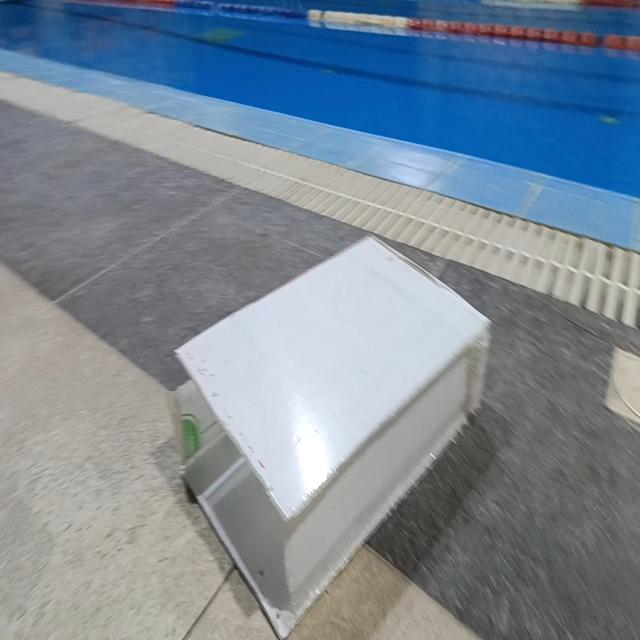Cuboid: (170, 232, 492, 636)
